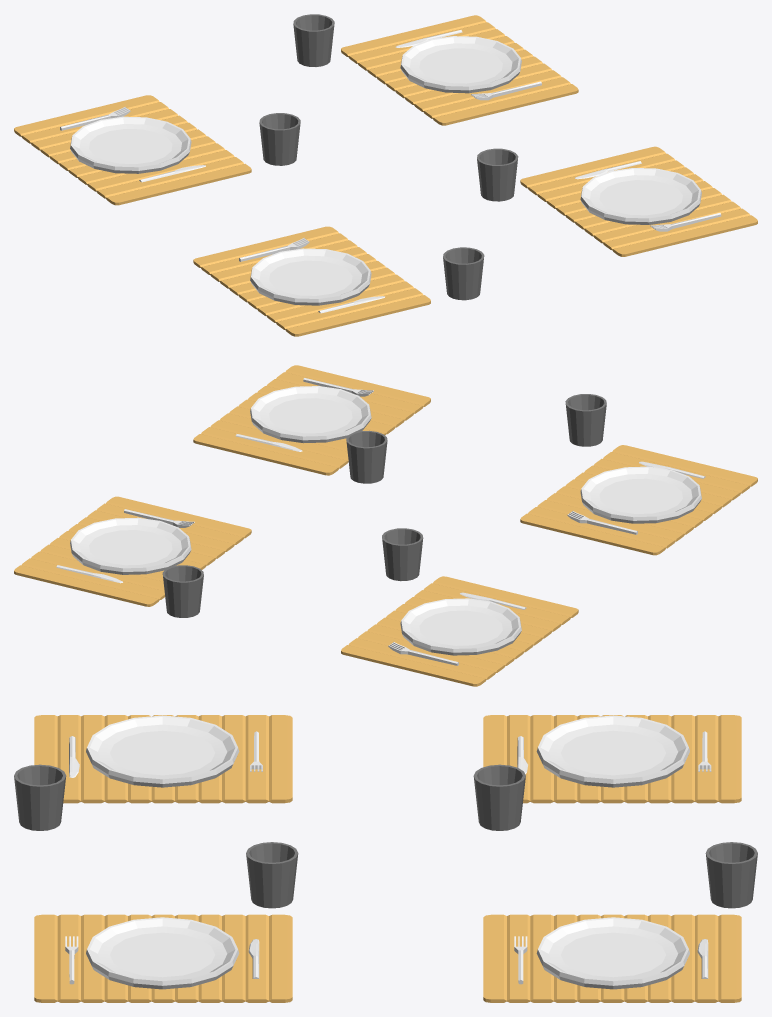
Rendered from Kitchen Stuff.fbx.
The picture shows the model from 3 angles, top to bottom: view 1: azimuth 30°, elevation 25°; view 2: azimuth 150°, elevation 25°; view 3: azimuth 270°, elevation 25°; orthographic projection. The views are drawn at different scales.
Parts seen in each view (by area): view 1: Kitchen Stuff; view 2: Kitchen Stuff; view 3: Kitchen Stuff.
Boxes of the visible parts, box(x1,y1,x2,y2) form: Kitchen Stuff: box(14, 14, 757, 336); Kitchen Stuff: box(14, 365, 757, 686); Kitchen Stuff: box(14, 715, 757, 1002).
Size of the model in its own units: 153 by 11.91 by 169.
